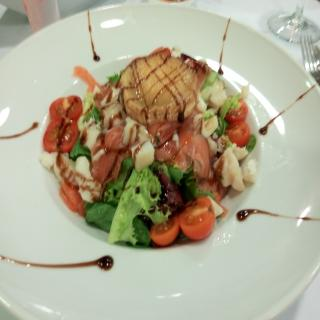Salad: (38, 45, 259, 253)
Tomato: (181, 202, 216, 242), (44, 117, 79, 153), (148, 211, 180, 245), (49, 94, 85, 120), (60, 184, 86, 212), (224, 94, 249, 123), (227, 120, 250, 146), (163, 183, 184, 211), (153, 45, 170, 60), (202, 62, 213, 84)
